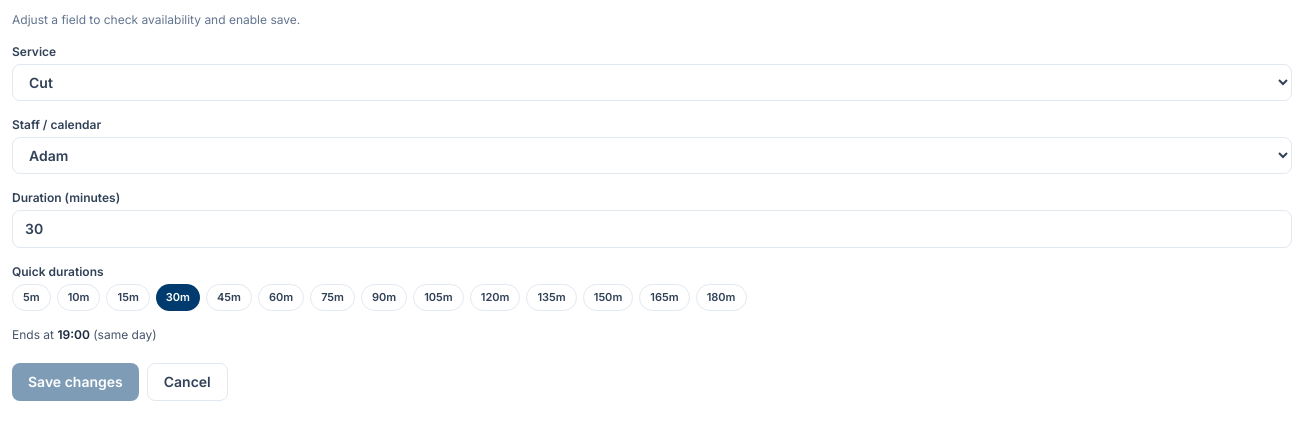
Test case: StaffAppointmentModifyForm outside hours › asks the check with the hours override, and says so when the time is outside hours
Replace the text in the number field labelled "Duration (minutes)" with "45" at (652, 229), box [12,210,1292,248]
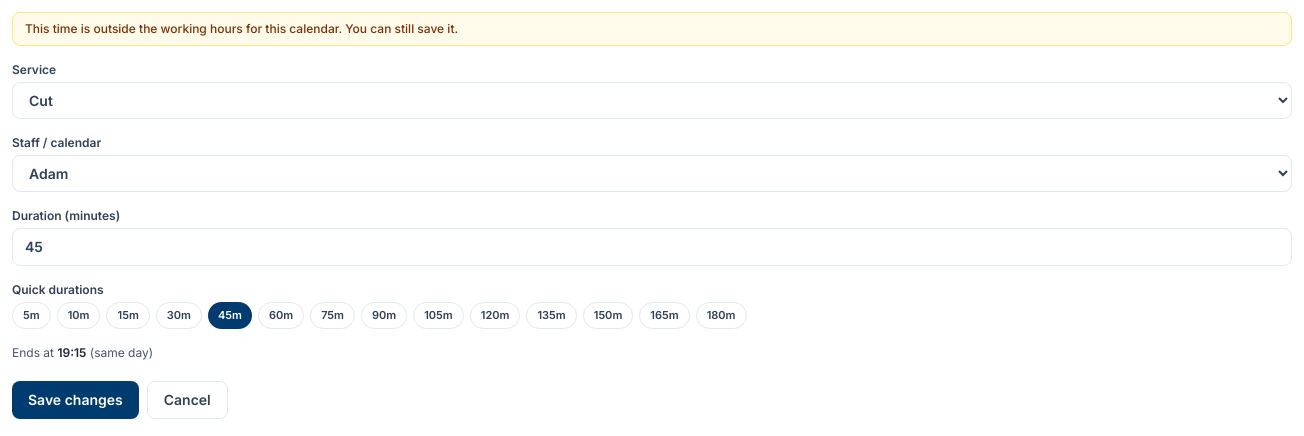
Result: the text "outside the working hours for this calendar" is shown at [25,21,458,36]
Result: the button "Save changes" is enabled at [12,380,139,418]
